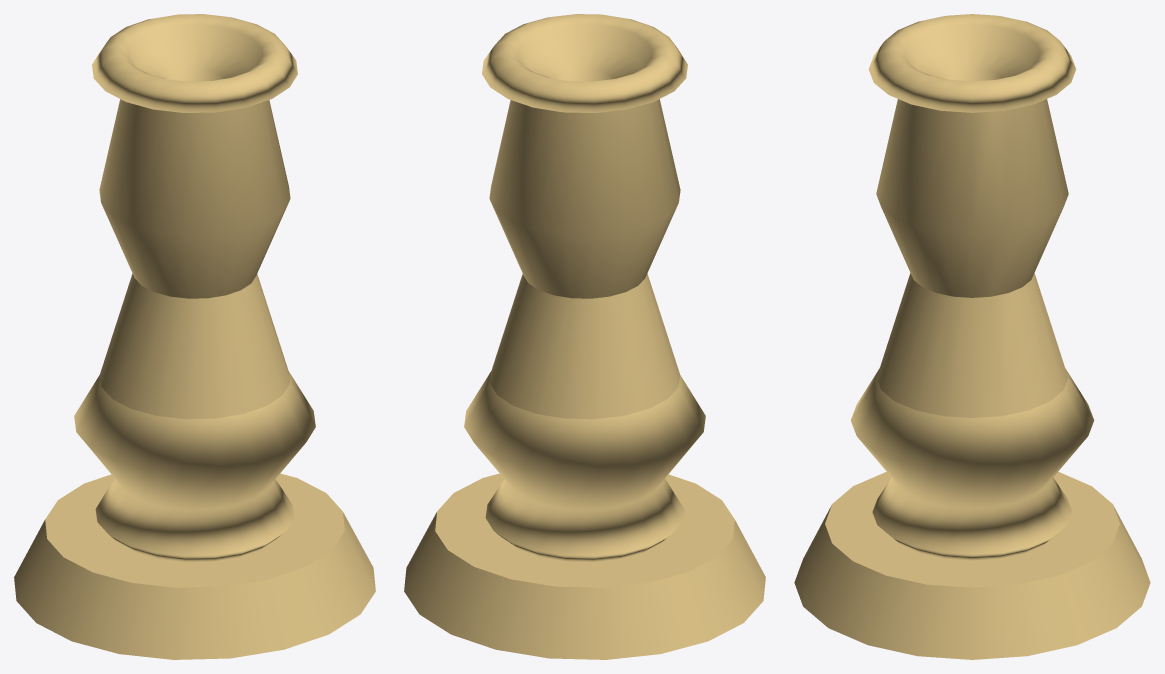
The model's file is Pottery 4_broken.fbx.
The picture shows the model from 3 angles, left to right: view 1: azimuth 30°, elevation 25°; view 2: azimuth 150°, elevation 25°; view 3: azimuth 270°, elevation 25°; orthographic projection.
Visible parts, largest first — view 1: pCylinder1, pTorus1.002, pTorus1.001, pTorus1.003, pTorus1; view 2: pCylinder1, pTorus1.002, pTorus1.001, pTorus1.003, pTorus1; view 3: pCylinder1, pTorus1.002, pTorus1.001, pTorus1.003, pTorus1.
Part boxes in pixels (box(x1,y1,x2,y2)): pCylinder1: box(14, 473, 375, 659); pTorus1.002: box(99, 99, 290, 298); pTorus1.001: box(74, 371, 315, 561); pTorus1.003: box(100, 273, 289, 419); pTorus1: box(92, 14, 297, 112); pCylinder1: box(404, 473, 765, 659); pTorus1.002: box(489, 99, 680, 298); pTorus1.001: box(464, 371, 705, 561); pTorus1.003: box(490, 273, 679, 419); pTorus1: box(482, 14, 687, 112); pCylinder1: box(794, 472, 1150, 659); pTorus1.002: box(876, 99, 1068, 297); pTorus1.001: box(850, 368, 1094, 560); pTorus1.003: box(876, 273, 1068, 417); pTorus1: box(868, 14, 1076, 112).
Bounding box in the file's own units: 13315 × 21504 × 12976.
